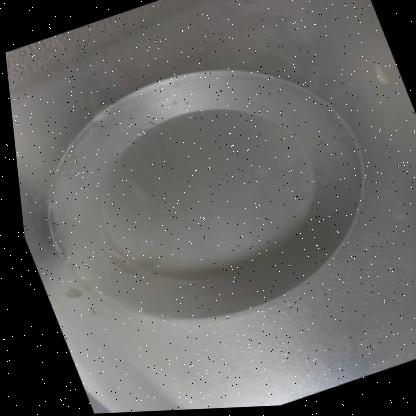Plastic: (43, 70, 359, 319)
